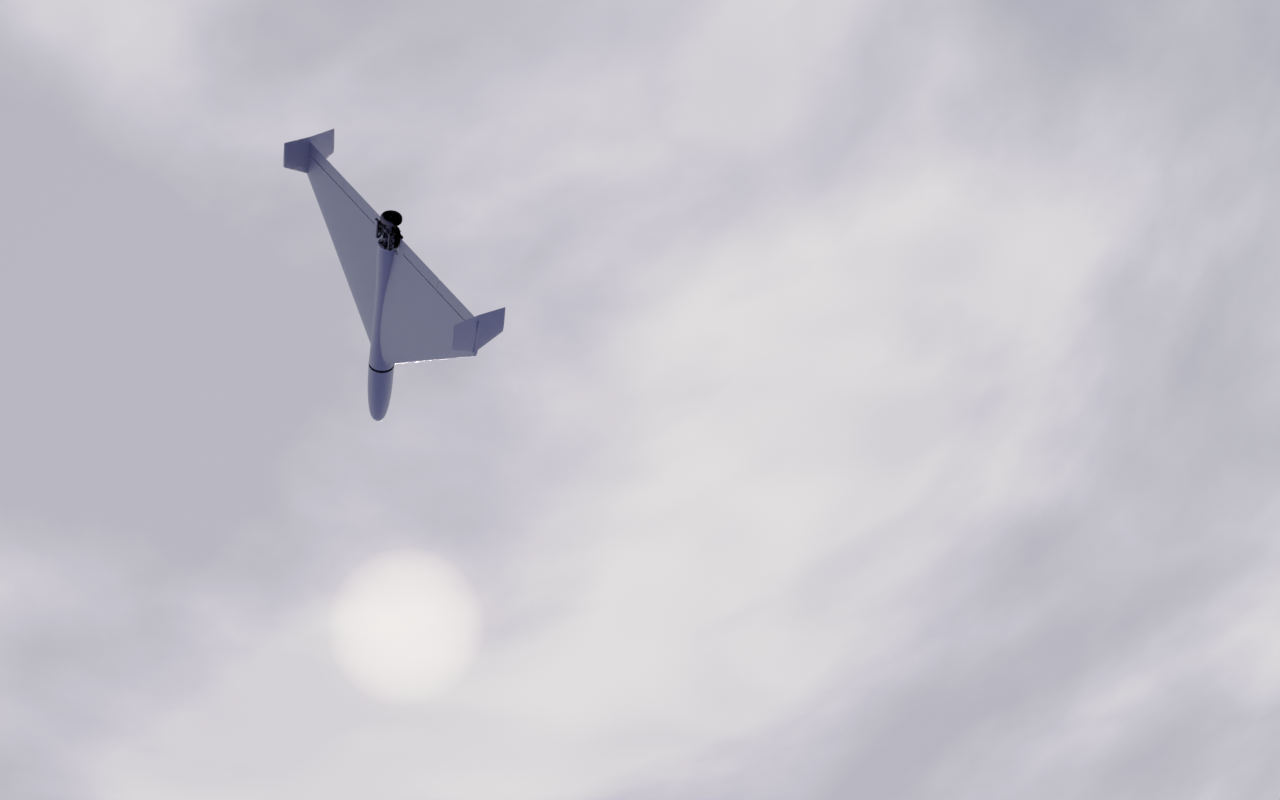shahed: (283, 128, 508, 423)
